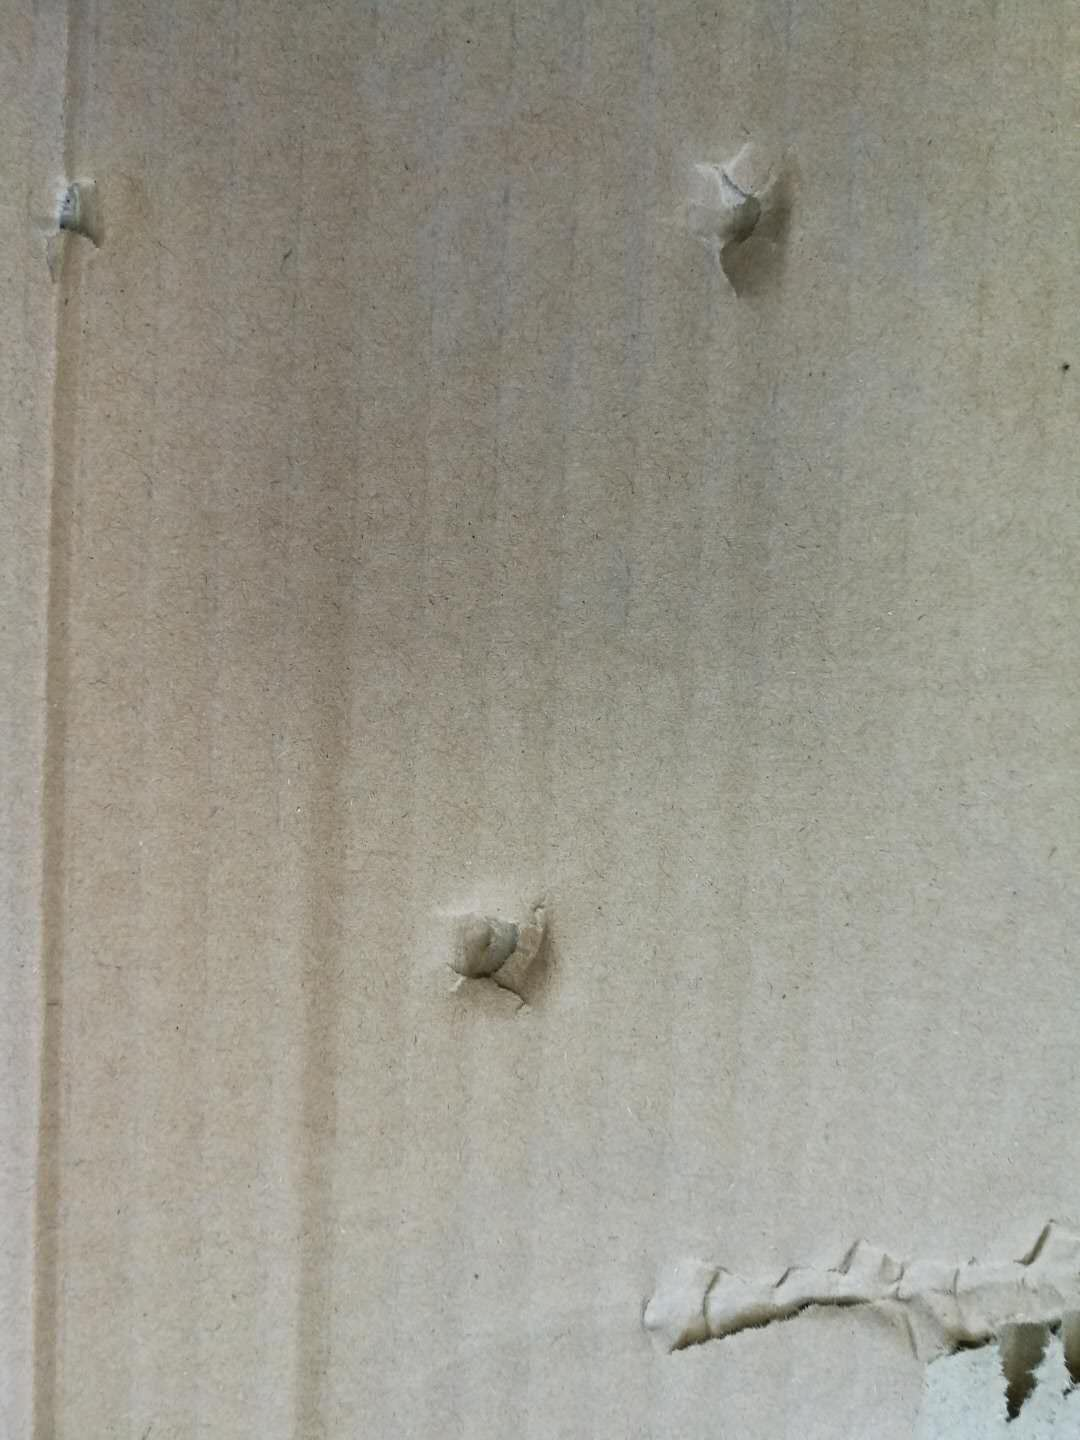defect: (3, 1, 163, 1440), (614, 1191, 1080, 1437), (246, 674, 393, 1438), (665, 128, 839, 336), (403, 876, 592, 1037)
